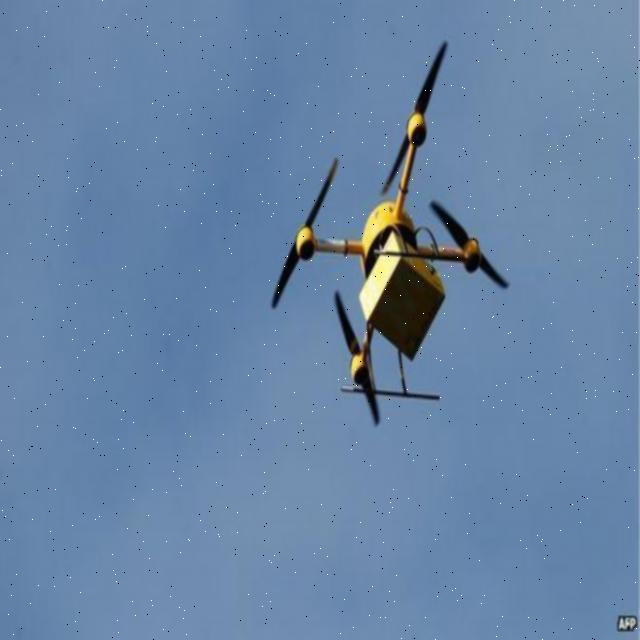UAV: (289, 105, 486, 428)
